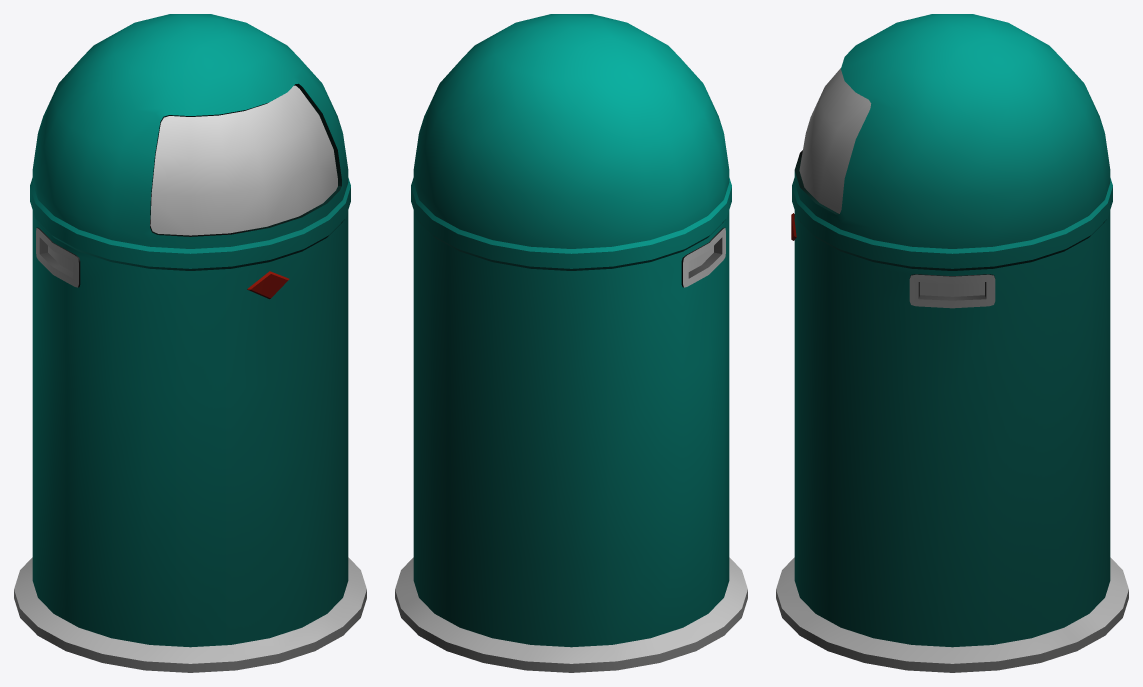
The model's file is G_WasteBin.fbx.
The picture shows the model from 3 angles, left to right: view 1: azimuth 30°, elevation 25°; view 2: azimuth 150°, elevation 25°; view 3: azimuth 270°, elevation 25°; orthographic projection.
Visible parts, largest first — view 1: G_WasteBin; view 2: G_WasteBin; view 3: G_WasteBin.
Boxes of the visible parts, x1=… form: G_WasteBin: x1=14, y1=14, x2=366, y2=672; G_WasteBin: x1=395, y1=14, x2=747, y2=672; G_WasteBin: x1=776, y1=14, x2=1128, y2=672.
Size of the model in its own units: 42.65 by 76.19 by 42.65.
